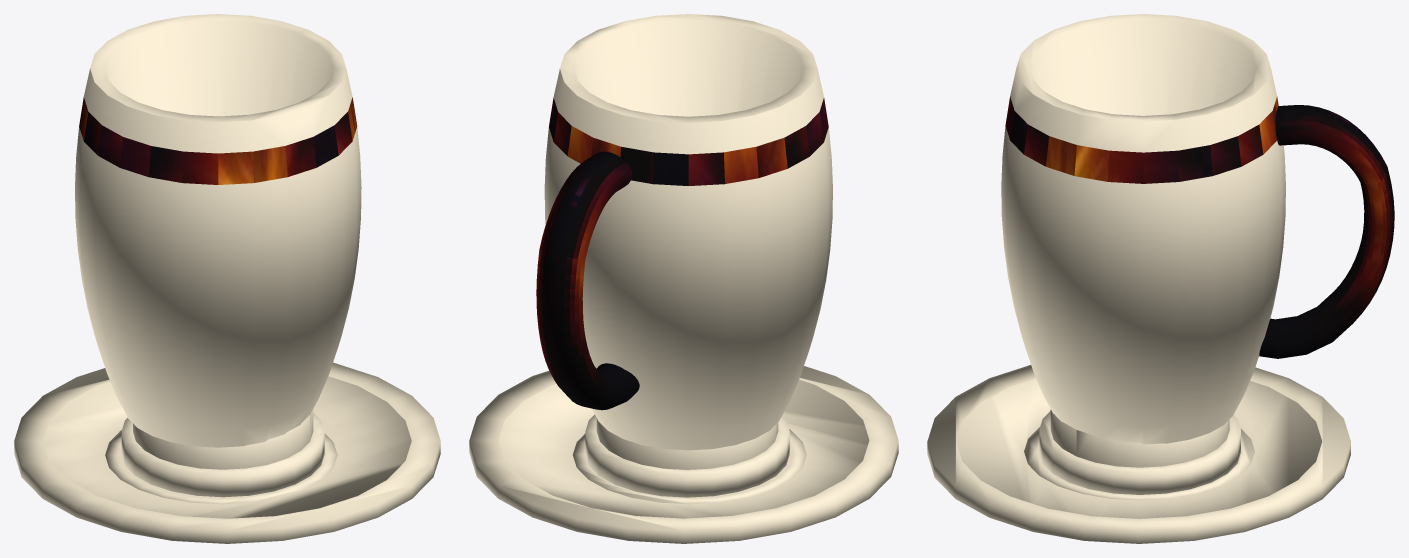
3 renders of one model, left to right at view 1: azimuth 30°, elevation 25°; view 2: azimuth 150°, elevation 25°; view 3: azimuth 270°, elevation 25°, orthographic.
Visible parts, largest first — view 1: mesh3_mesh3-geometry, mesh2_mesh2-geometry, mesh4_mesh4-geometry, mesh3_mesh3-geometry_1, mesh1_mesh1-geometry_1; view 2: mesh3_mesh3-geometry, mesh2_mesh2-geometry, mesh5_mesh5-geometry, mesh4_mesh4-geometry, mesh3_mesh3-geometry_1, mesh1_mesh1-geometry_1; view 3: mesh3_mesh3-geometry, mesh2_mesh2-geometry, mesh5_mesh5-geometry, mesh4_mesh4-geometry, mesh3_mesh3-geometry_1, mesh1_mesh1-geometry_1.
Part boxes in pixels (x1,y1,x2,y2): mesh3_mesh3-geometry: (75, 14, 361, 447); mesh2_mesh2-geometry: (14, 362, 440, 543); mesh4_mesh4-geometry: (121, 409, 324, 497); mesh3_mesh3-geometry_1: (79, 97, 357, 184); mesh1_mesh1-geometry_1: (105, 430, 337, 504); mesh3_mesh3-geometry: (544, 14, 832, 450); mesh2_mesh2-geometry: (469, 366, 898, 543); mesh5_mesh5-geometry: (536, 151, 639, 410); mesh4_mesh4-geometry: (585, 414, 789, 497); mesh3_mesh3-geometry_1: (549, 98, 828, 185); mesh1_mesh1-geometry_1: (573, 429, 806, 504); mesh3_mesh3-geometry: (1001, 14, 1285, 444); mesh2_mesh2-geometry: (927, 365, 1350, 543); mesh5_mesh5-geometry: (1259, 105, 1394, 358); mesh4_mesh4-geometry: (1039, 409, 1240, 494); mesh3_mesh3-geometry_1: (1005, 96, 1278, 183); mesh1_mesh1-geometry_1: (1024, 427, 1254, 500).
Bounding box in the file's own units: 0.5536 × 0.5665 × 0.6105.
4 materials, 1 textured.
